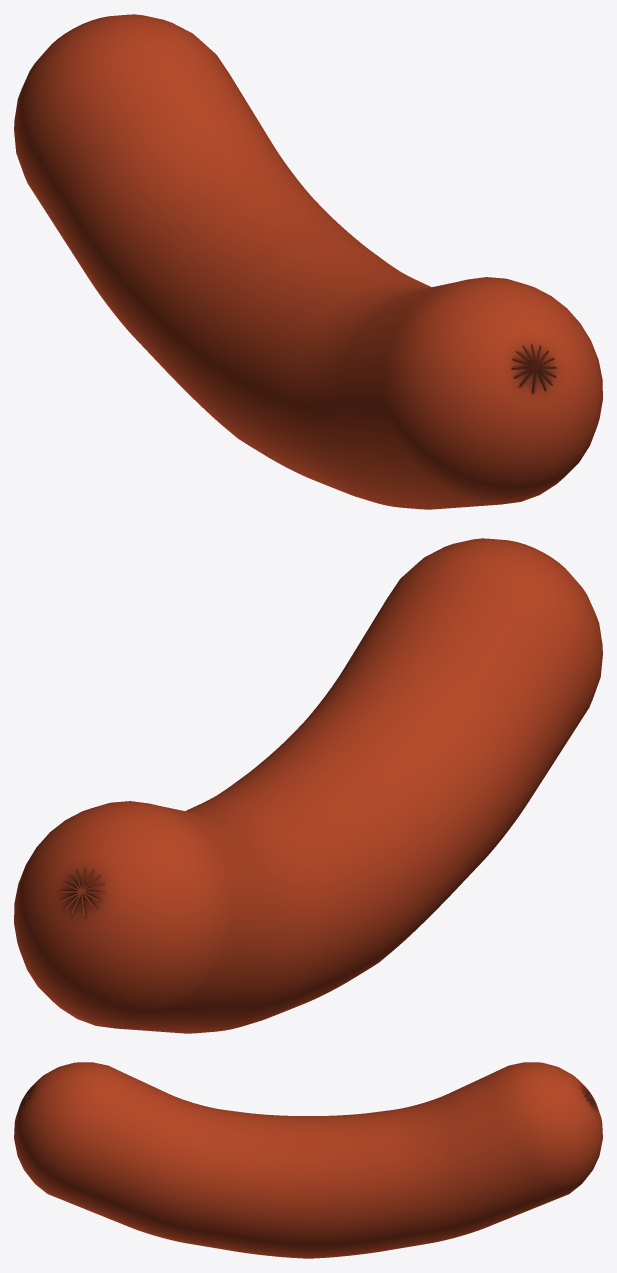
The model's file is sausage.fbx.
3 views of the same model, one above another, from view 1: azimuth 30°, elevation 25°; view 2: azimuth 150°, elevation 25°; view 3: azimuth 270°, elevation 25° (orthographic). The views are drawn at different scales.
Visible parts, largest first — view 1: Cylinder.002; view 2: Cylinder.002; view 3: Cylinder.002.
Part boxes in pixels (x1=…): Cylinder.002: x1=14, y1=14, x2=602, y2=509; Cylinder.002: x1=14, y1=538, x2=602, y2=1033; Cylinder.002: x1=14, y1=1062, x2=602, y2=1258.
Size of the model in its own units: 18.05 by 25.55 by 74.3.
